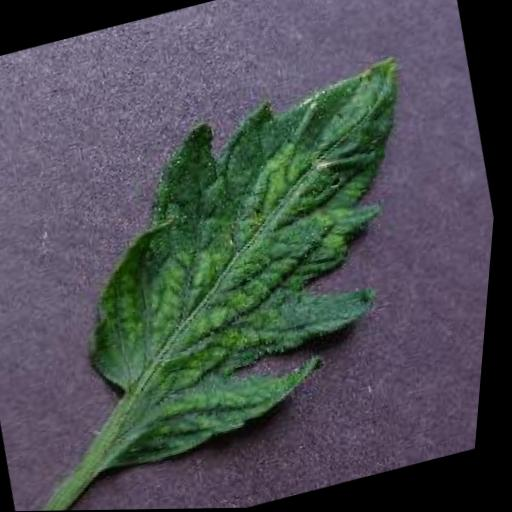Mosaic Virus: (28, 48, 482, 474)
